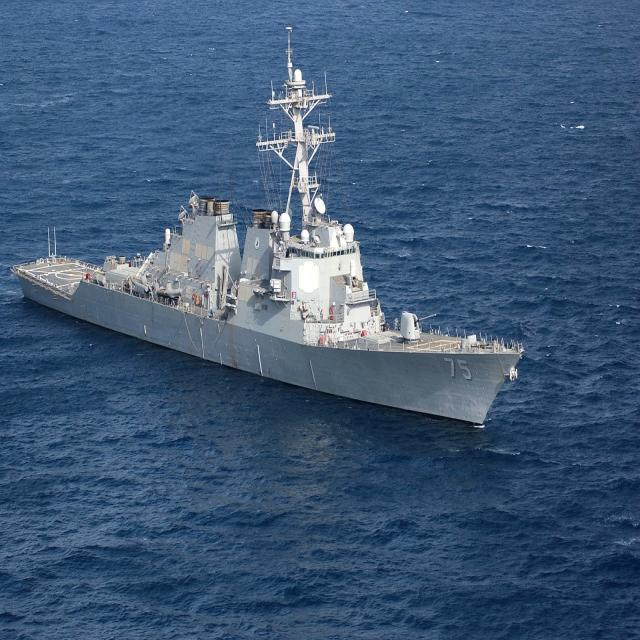navalvessels: (11, 32, 520, 434)
